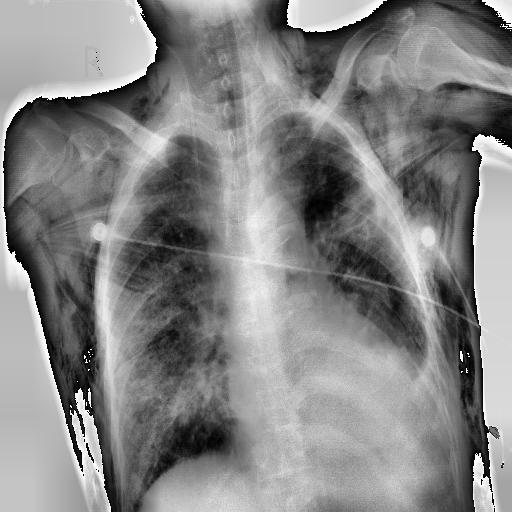0- Aortic enlargement: (242, 191, 317, 269)
10- Pleural effusion: (402, 326, 452, 410), (406, 362, 450, 433), (406, 330, 440, 402)
11- Pleural thickening: (402, 326, 452, 410)
3- Cardiomegaly: (228, 337, 422, 469), (230, 340, 414, 468), (229, 341, 424, 447)
7- Lung Opacity: (86, 132, 250, 496), (259, 120, 430, 368)
9- Other lesion: (294, 104, 480, 312), (20, 182, 214, 324), (30, 187, 106, 510), (35, 236, 116, 508), (433, 184, 499, 508), (43, 242, 108, 498), (432, 278, 496, 510), (442, 284, 488, 480), (134, 70, 170, 125), (298, 50, 336, 84)
